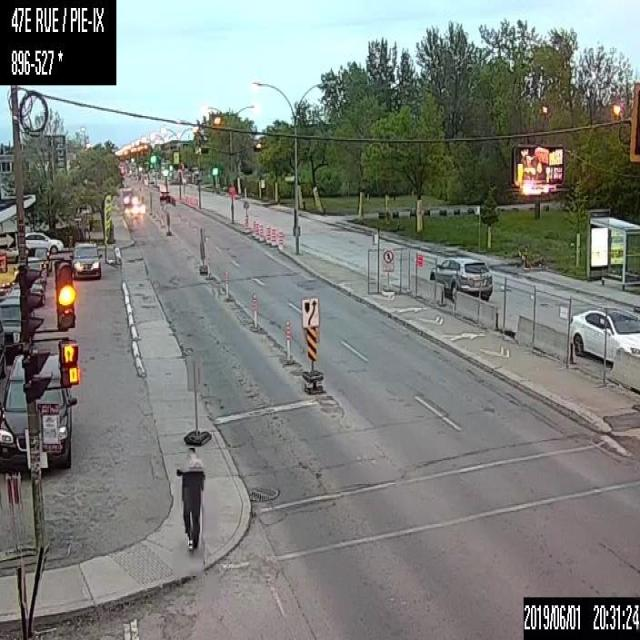construction: (285, 319, 291, 365), (251, 290, 257, 329), (224, 271, 228, 300), (278, 230, 284, 247), (264, 226, 270, 242), (270, 228, 276, 244), (253, 222, 258, 238), (259, 224, 264, 240)
pedestrian: (174, 444, 204, 549)
vehicle: (0, 348, 71, 465), (568, 304, 639, 361), (428, 254, 492, 302), (0, 296, 35, 353), (0, 283, 45, 313), (70, 240, 101, 278), (24, 230, 64, 258)
